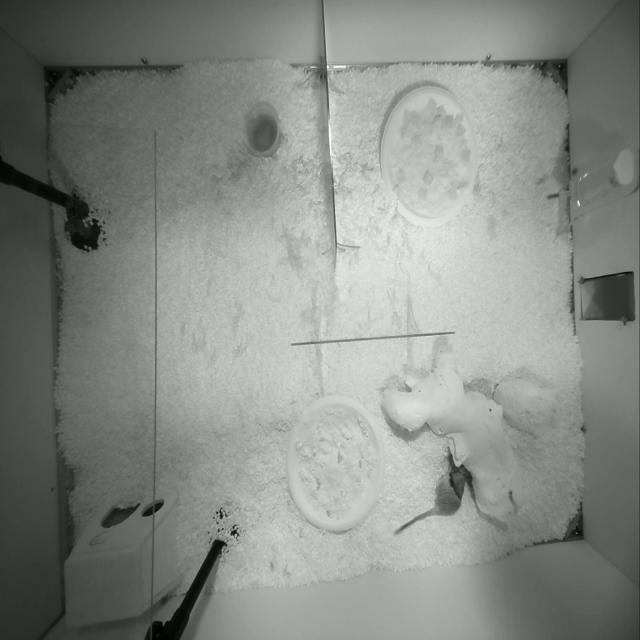adult_front: (394, 452, 472, 534)
